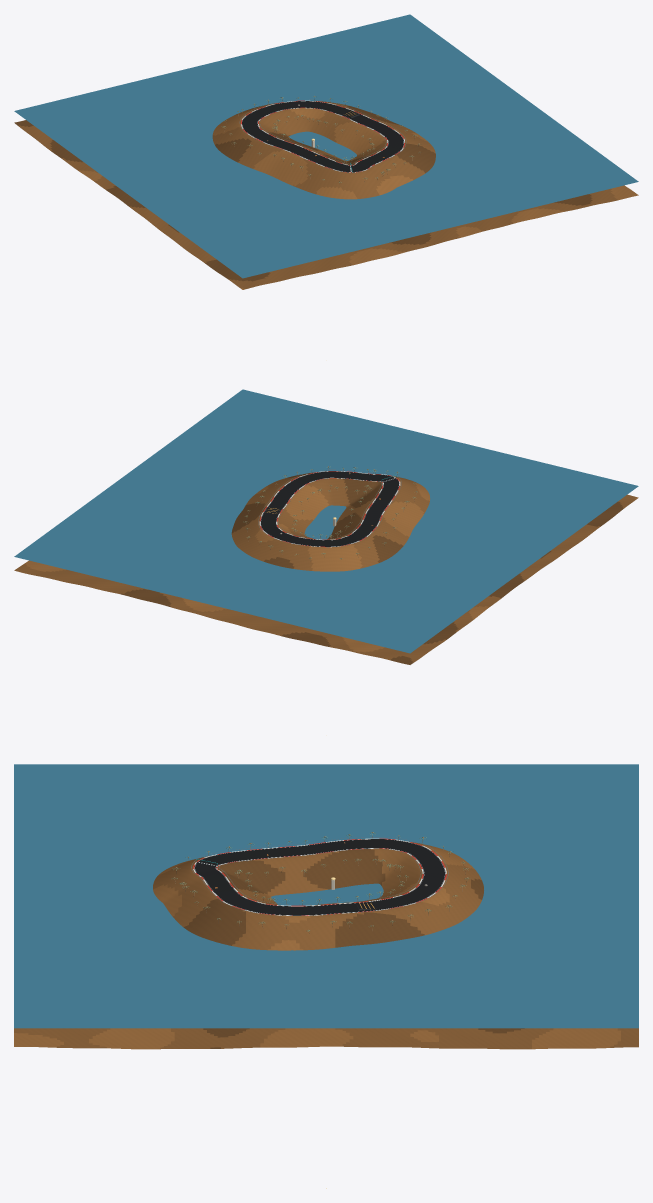
Rendered from sunset_shores.glb.
3 views of the same model, one above another, from view 1: azimuth 30°, elevation 25°; view 2: azimuth 150°, elevation 25°; view 3: azimuth 270°, elevation 25° (orthographic). The views are drawn at different scales.
Visible parts, largest first — view 1: sunset_shores - Blender Mountain Course - Combined Blender G; view 2: sunset_shores - Blender Mountain Course - Combined Blender G; view 3: sunset_shores - Blender Mountain Course - Combined Blender G.
Part boxes in pixels (<box>): sunset_shores - Blender Mountain Course - Combined Blender G: <box>14,14,638,289</box>; sunset_shores - Blender Mountain Course - Combined Blender G: <box>14,389,638,664</box>; sunset_shores - Blender Mountain Course - Combined Blender G: <box>14,764,638,1049</box>.
Size of the model in its own units: 744 by 415 by 744.
27 materials, 5 textured.
